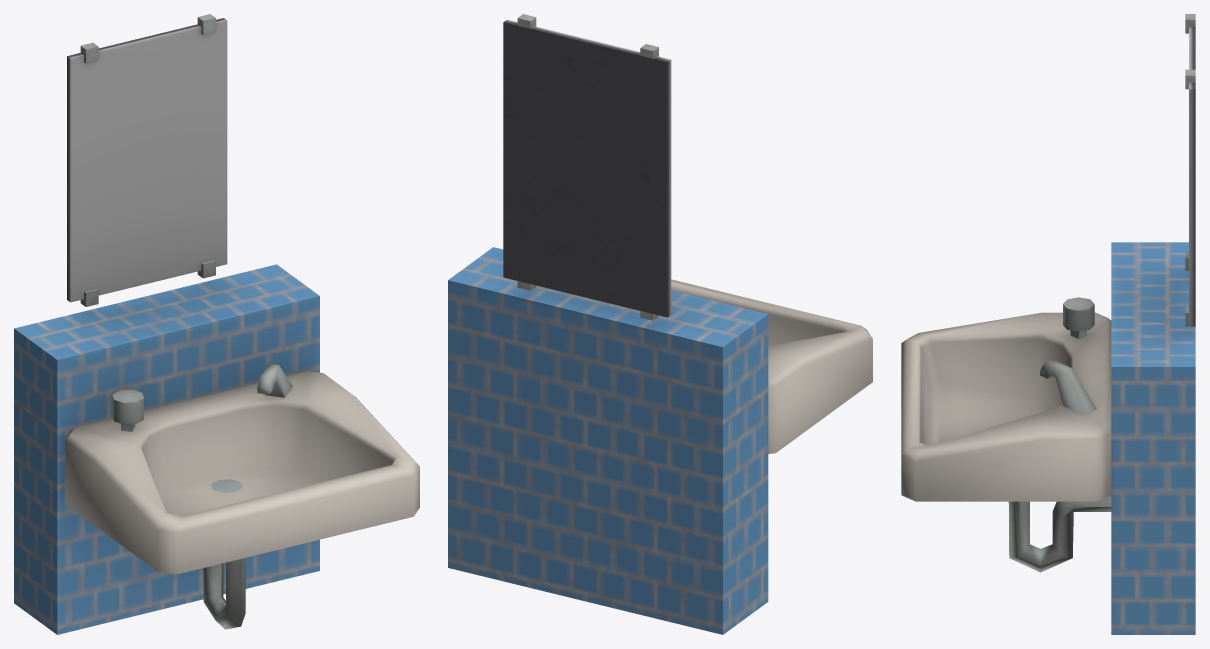
The model's file is sb_obj_ModernCity075_wash_basin_a.fbx.
3 renders of one model, left to right at view 1: azimuth 30°, elevation 25°; view 2: azimuth 150°, elevation 25°; view 3: azimuth 270°, elevation 25°, orthographic. The views are drawn at different scales.
Parts seen in each view (by area): view 1: sb_obj_ModernCity075_wash_basin_a; view 2: sb_obj_ModernCity075_wash_basin_a; view 3: sb_obj_ModernCity075_wash_basin_a.
Part boxes in pixels (bbox=[...]): sb_obj_ModernCity075_wash_basin_a: bbox=[14, 14, 419, 634]; sb_obj_ModernCity075_wash_basin_a: bbox=[448, 14, 872, 634]; sb_obj_ModernCity075_wash_basin_a: bbox=[901, 14, 1195, 634].
Size of the model in its own units: 0.64 by 1.26 by 0.6377.
1 material, 1 textured.
